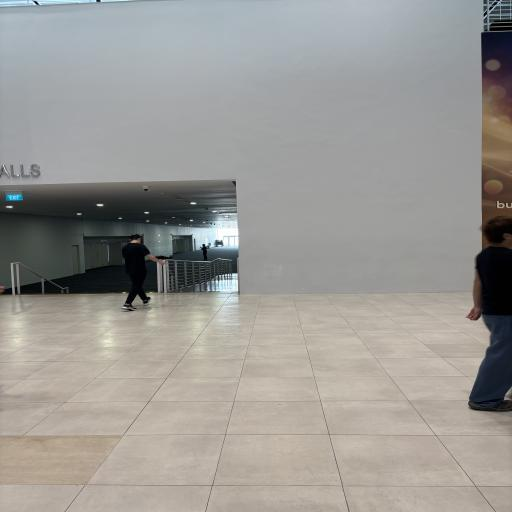person_right: (463, 215, 512, 415)
